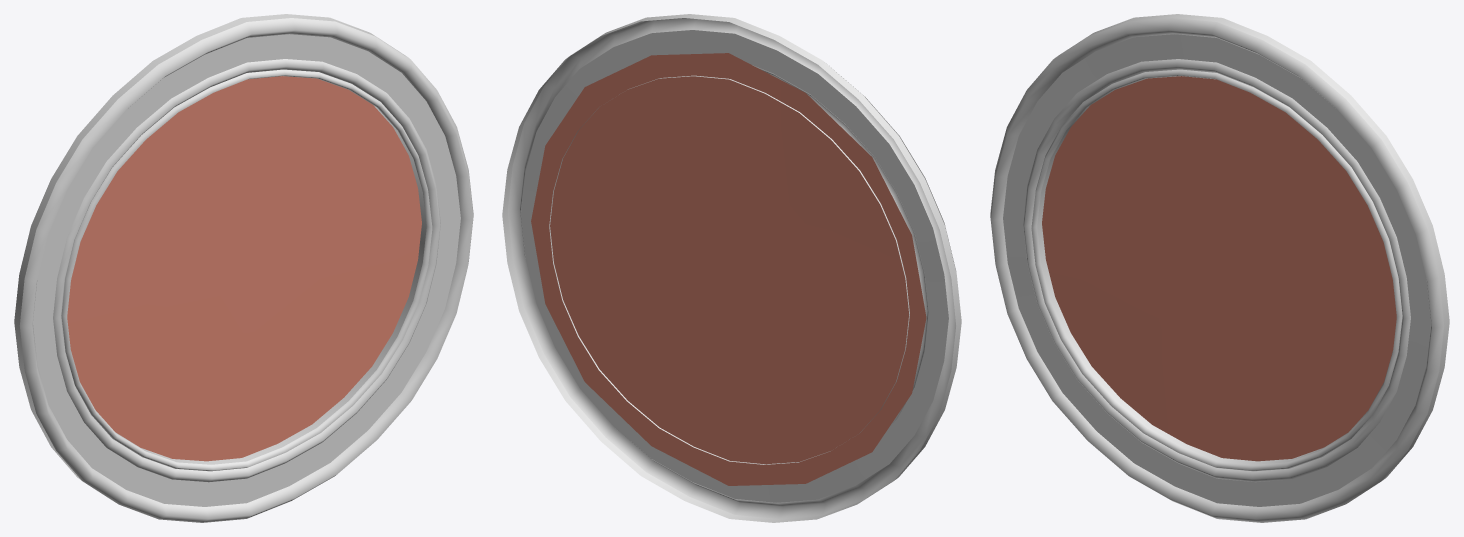
The model's file is SM_Props_Decor_12.fbx.
The picture shows the model from 3 angles, left to right: view 1: azimuth 30°, elevation 25°; view 2: azimuth 150°, elevation 25°; view 3: azimuth 330°, elevation 25°; orthographic projection.
Visible parts, largest first — view 1: SM_Props_Decor_12; view 2: SM_Props_Decor_12; view 3: SM_Props_Decor_12.
Part boxes in pixels (left/top/right/bottom): SM_Props_Decor_12: left=14, top=14, right=473, bottom=522; SM_Props_Decor_12: left=502, top=14, right=961, bottom=522; SM_Props_Decor_12: left=990, top=14, right=1449, bottom=522.
Bounding box in the file's own units: 196 × 205 × 8.49.
